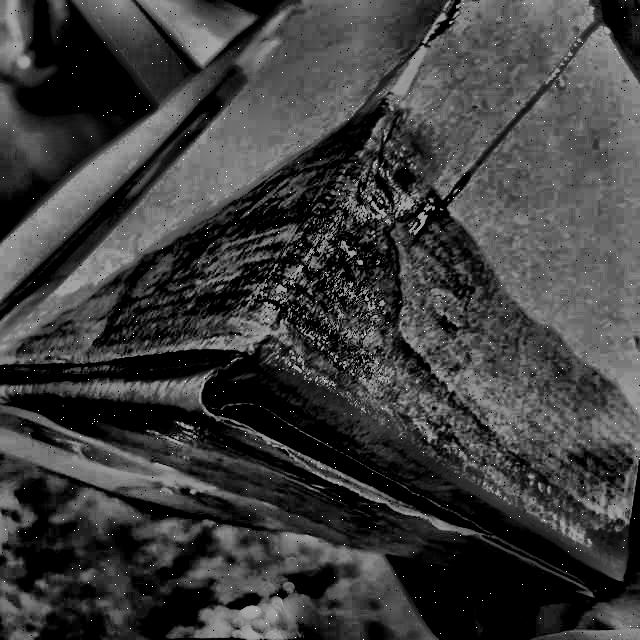box: (1, 0, 640, 595)
wet: (30, 105, 640, 581)
